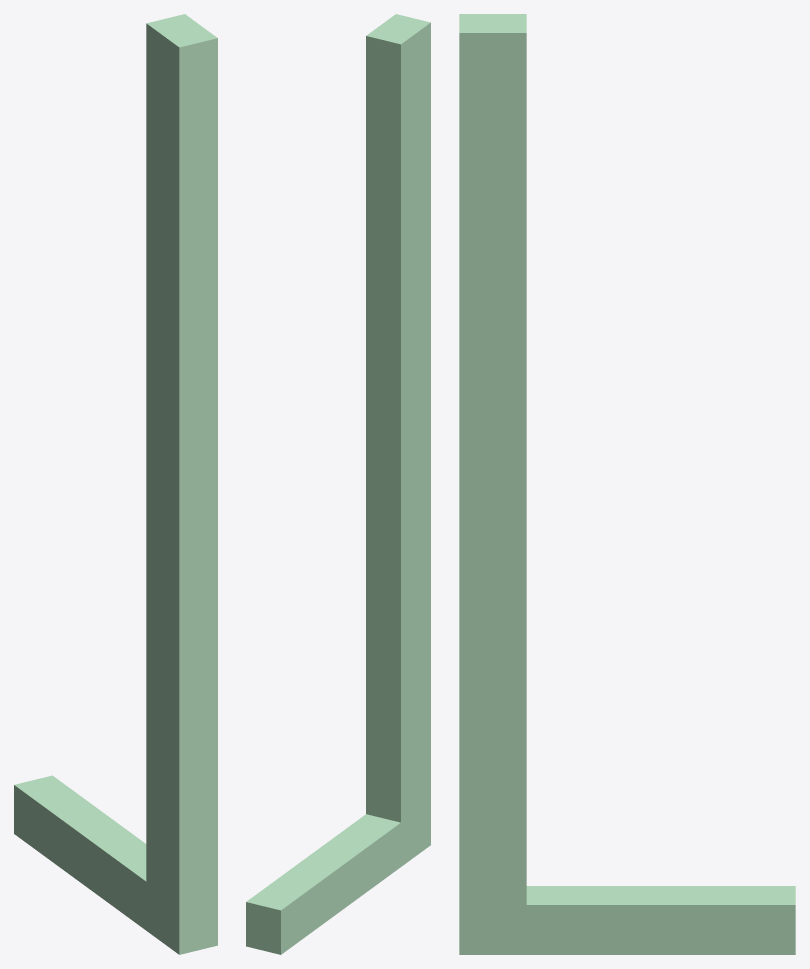
The model's file is lockpick.glb.
The picture shows the model from 3 angles, left to right: view 1: azimuth 30°, elevation 25°; view 2: azimuth 150°, elevation 25°; view 3: azimuth 270°, elevation 25°; orthographic projection. The views are drawn at different scales.
Parts seen in each view (by area): view 1: Box001; view 2: Box001; view 3: Box001.
Part boxes in pixels (<box>): Box001: <box>14,14,217,954</box>; Box001: <box>246,14,430,954</box>; Box001: <box>459,14,795,954</box>.
Size of the model in its own units: 0.00179 by 0.0404 by 0.0133.
